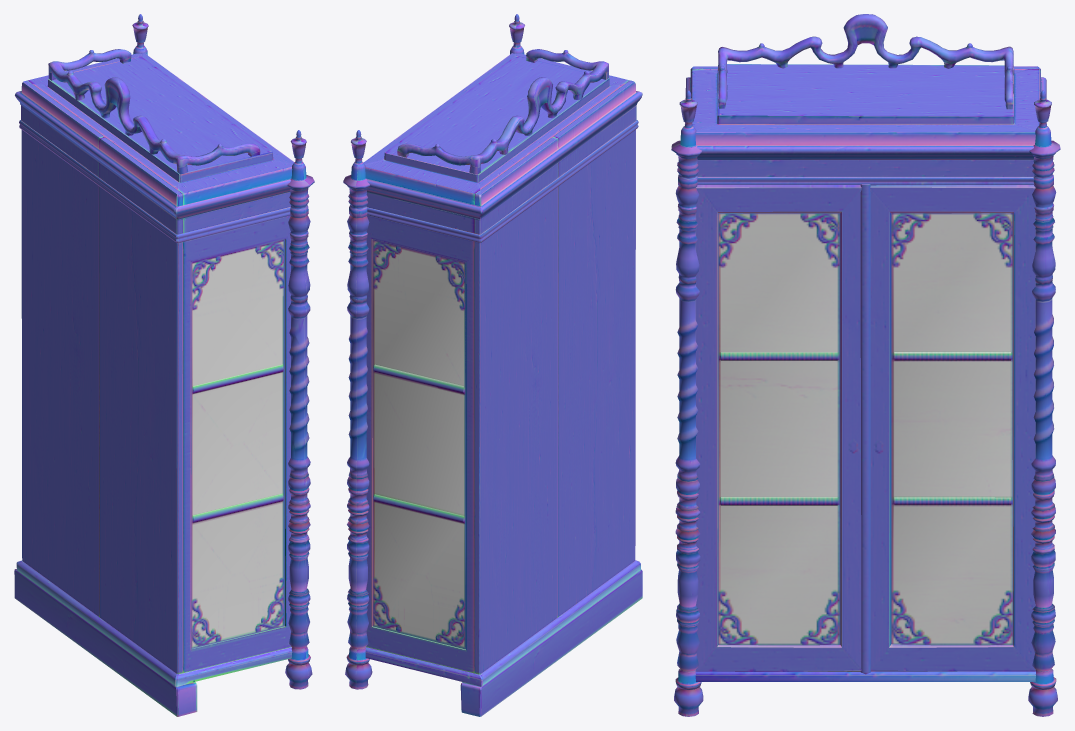
The model's file is WoodCupboard03.FBX.
3 renders of one model, left to right at view 1: azimuth 30°, elevation 25°; view 2: azimuth 150°, elevation 25°; view 3: azimuth 270°, elevation 25°, orthographic. The views are drawn at different scales.
Visible parts, largest first — view 1: WoodCupboard03_base, WoodCupboard03_door2; view 2: WoodCupboard03_base, WoodCupboard03_door1; view 3: WoodCupboard03_door1, WoodCupboard03_door2, WoodCupboard03_base.
Boxes of the visible parts, box(x1,y1,x2,y2) form: WoodCupboard03_base: box(14, 49, 294, 716); WoodCupboard03_door2: box(285, 130, 314, 689); WoodCupboard03_base: box(363, 49, 642, 716); WoodCupboard03_door1: box(343, 130, 372, 689); WoodCupboard03_door1: box(860, 90, 1060, 716); WoodCupboard03_door2: box(671, 90, 861, 716); WoodCupboard03_base: box(685, 14, 1046, 681).
Size of the model in its own units: 5.64 by 22.25 by 12.23.
